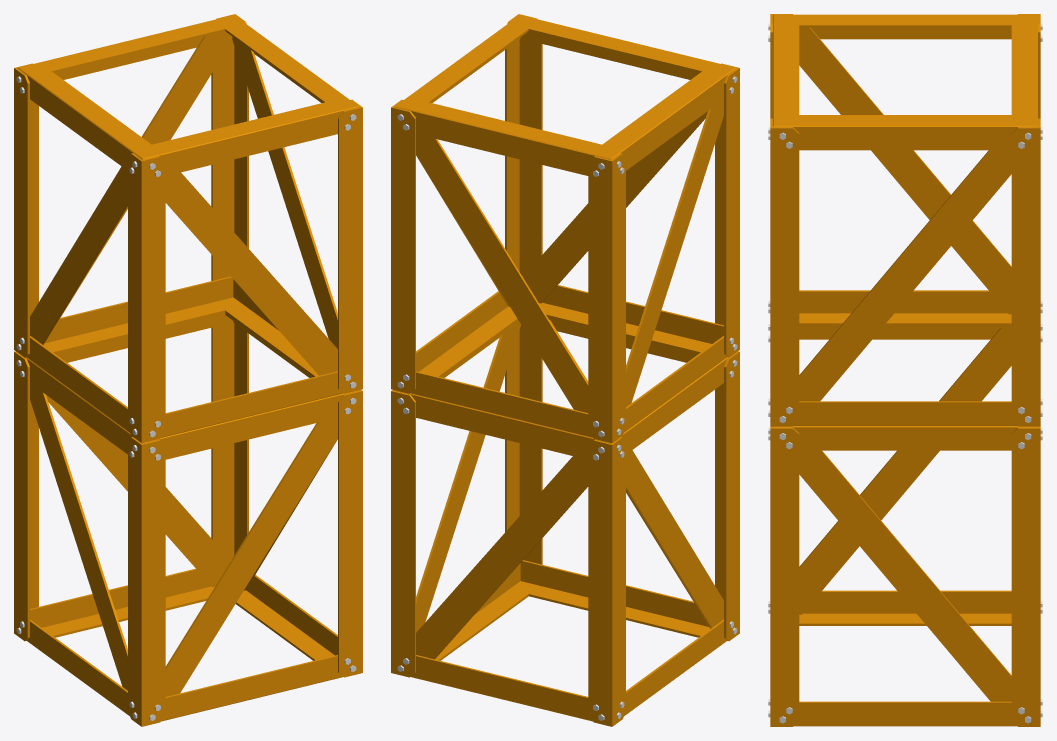
The model's file is crane_block.fbx.
The picture shows the model from 3 angles, left to right: view 1: azimuth 30°, elevation 25°; view 2: azimuth 150°, elevation 25°; view 3: azimuth 270°, elevation 25°; orthographic projection. The views are drawn at different scales.
Visible parts, largest first — view 1: Farm_U, Farm_B; view 2: Farm_U, Farm_B; view 3: Farm_U, Farm_B.
Part boxes in pixels (bbox=[...]): Farm_U: bbox=[14, 14, 362, 442]; Farm_B: bbox=[14, 312, 362, 726]; Farm_U: bbox=[391, 14, 739, 442]; Farm_B: bbox=[391, 317, 739, 726]; Farm_U: bbox=[768, 14, 1042, 426]; Farm_B: bbox=[768, 324, 1042, 726].
Bounding box in the file's own units: 207 × 500 × 207.
